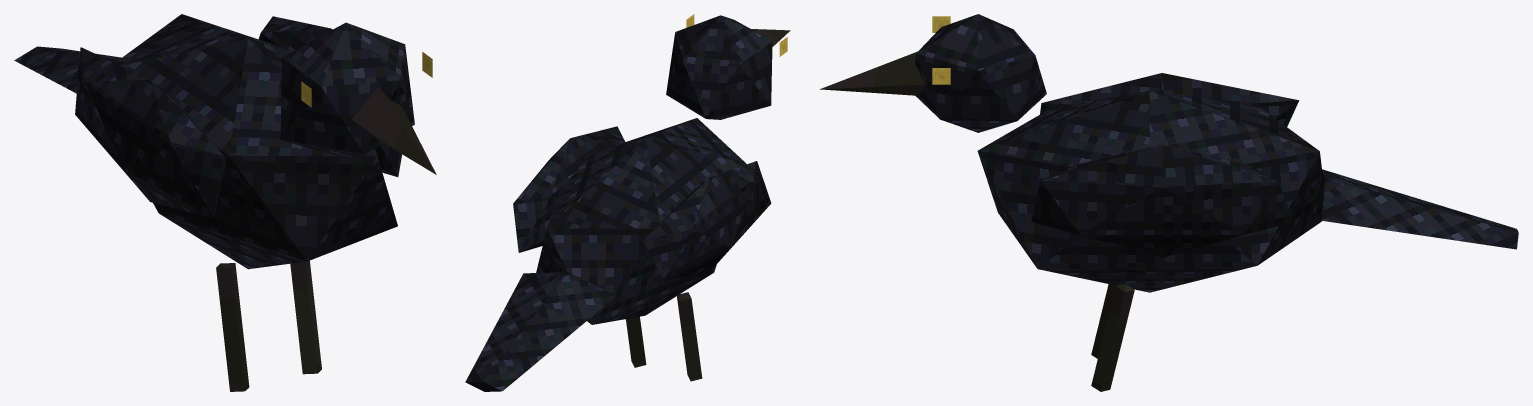
File: cuervo.obj
3 renders of one model, left to right at view 1: azimuth 30°, elevation 25°; view 2: azimuth 150°, elevation 25°; view 3: azimuth 270°, elevation 25°, orthographic. The views are drawn at different scales.
Parts seen in each view (by area): view 1: cuervo; view 2: cuervo; view 3: cuervo.
Boxes of the visible parts, x1,y1,x2,y2 form: cuervo: (14,14,436,391); cuervo: (465,14,790,391); cuervo: (820,14,1518,391).
Bounding box in the file's own units: 0.1943 × 0.3247 × 0.5715.
3 materials, 3 textured.
